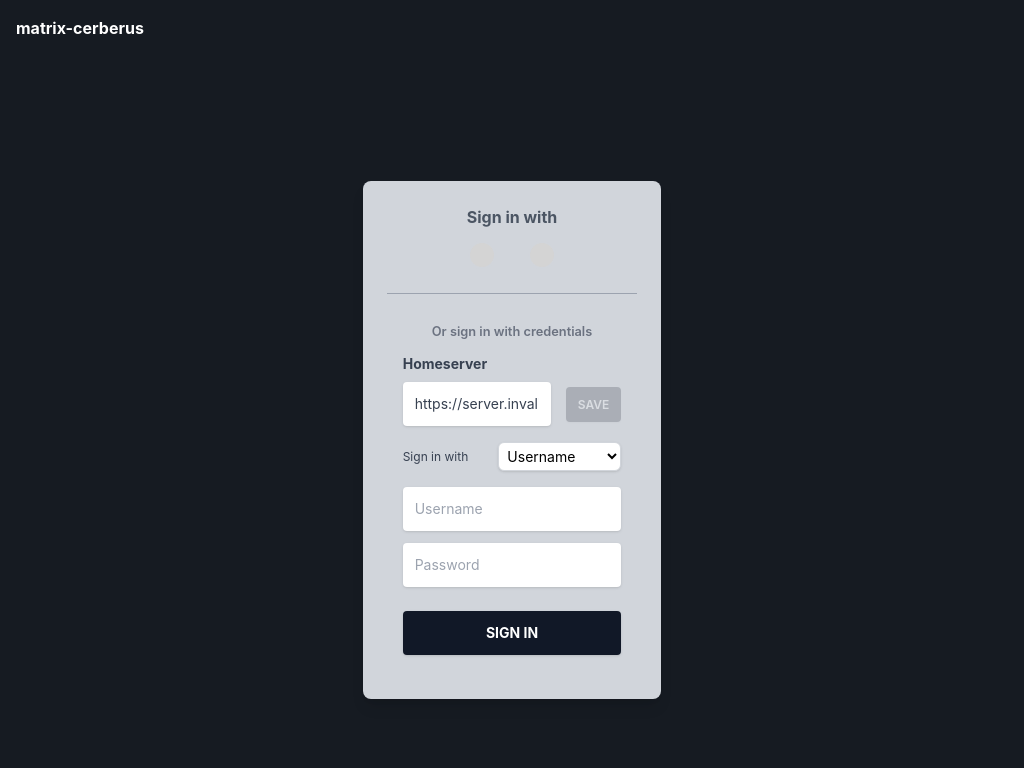
Test case: Check input field change
Select "Username" in the dropdown at point(560, 456), box [498,442,621,471]
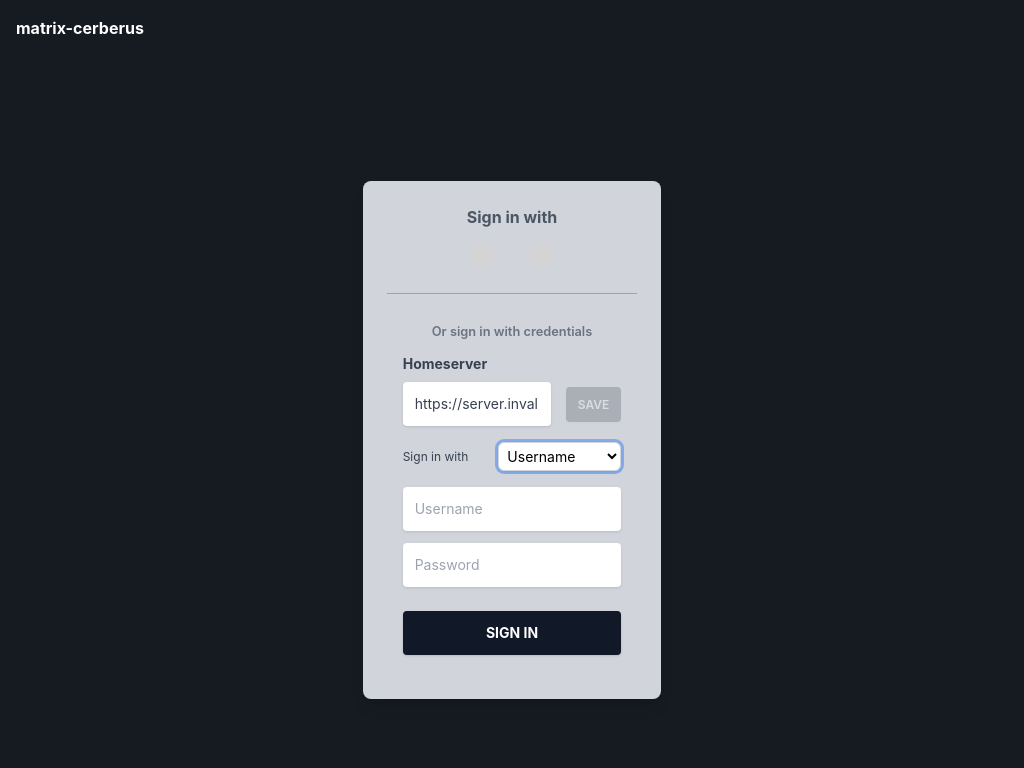
Expected: the field labelled "Username" is shown, [403,487,621,531]
Select "Email address" in the dropdown at point(560, 456), box [498,442,621,471]
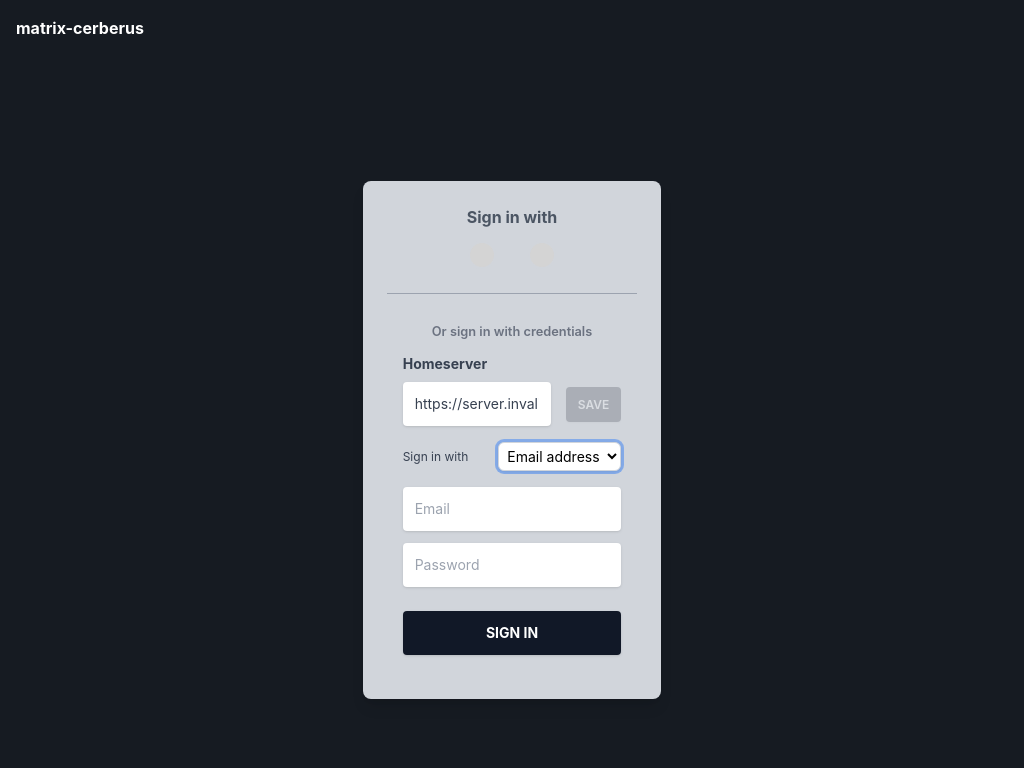
Expected: the field labelled "Email" is shown, [403,487,621,531]
Select "Phone" in the dropdown at point(560, 456), box [498,442,621,471]
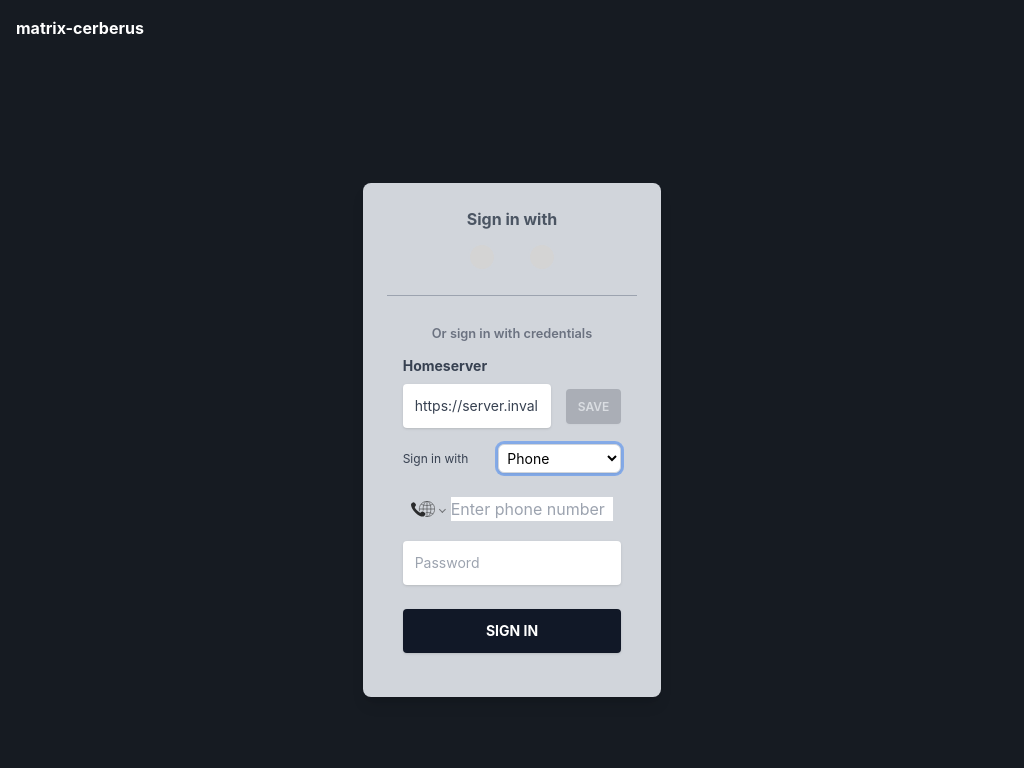
Expected: the field named "phone-number" is shown, [451,497,613,521]
